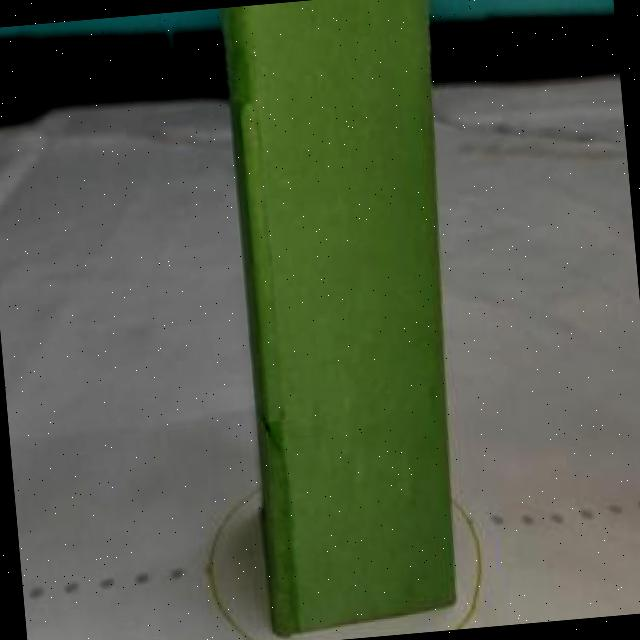greenbox: (213, 0, 482, 636)
